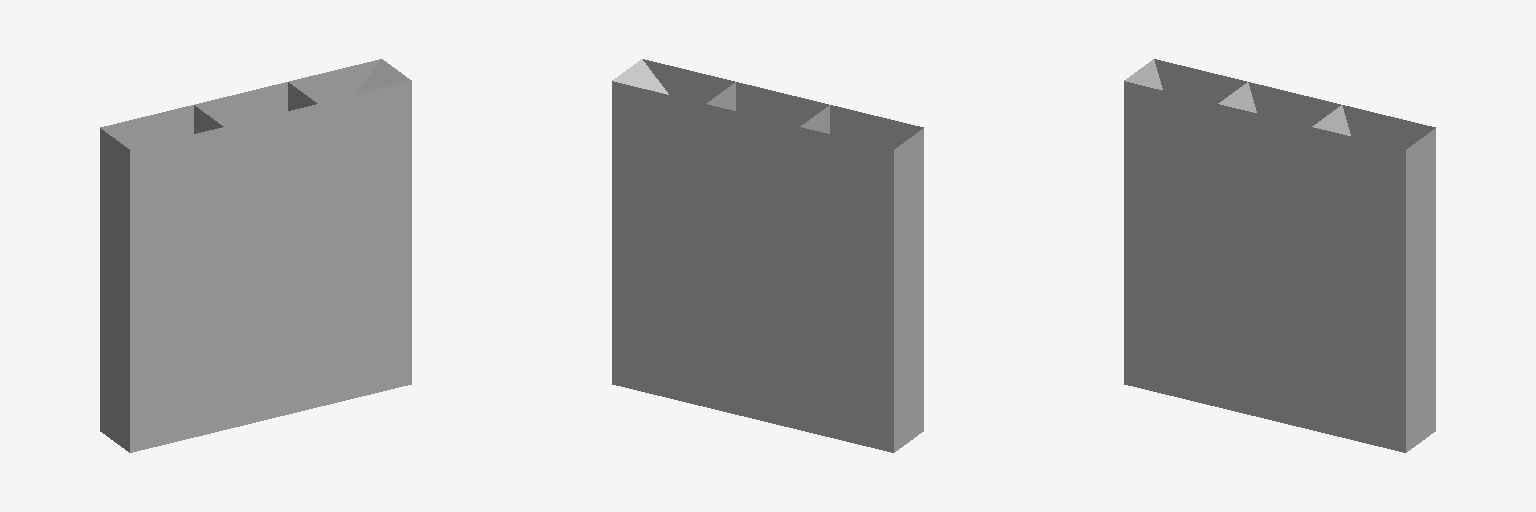
The model's file is 3d_Kalidar - Pond 06.wlw.obj.
3 views of the same model, side by side, from view 1: azimuth 30°, elevation 25°; view 2: azimuth 150°, elevation 25°; view 3: azimuth 330°, elevation 25° (orthographic).
Bounding box in the file's own units: 53.71 × 55.17 × 10.